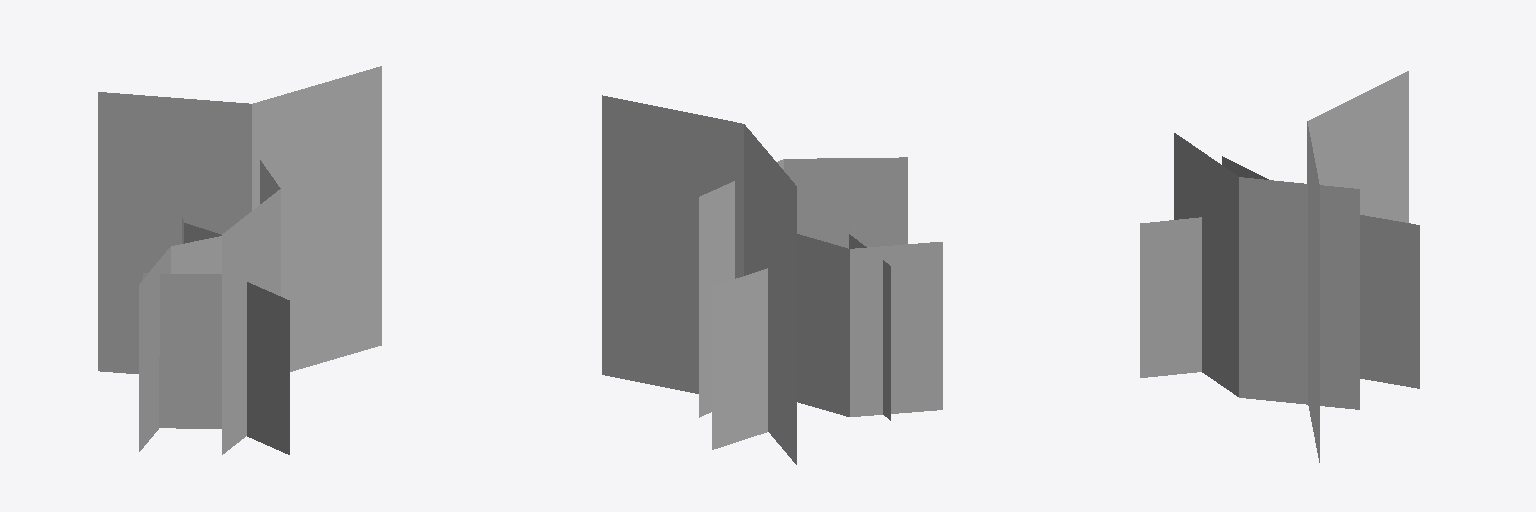
Rendered from Cartoon Grass_1a.obj.
The picture shows the model from 3 angles: view 1: azimuth 30°, elevation 25°; view 2: azimuth 150°, elevation 25°; view 3: azimuth 270°, elevation 25°; orthographic projection.
Visible parts, largest first — view 1: Cartoon Grass_1a; view 2: Cartoon Grass_1a; view 3: Cartoon Grass_1a.
Part boxes in pixels (x1,y1,x2,y2): Cartoon Grass_1a: (98,66,381,454); Cartoon Grass_1a: (602,95,942,464); Cartoon Grass_1a: (1140,71,1419,462).
Bounding box in the file's own units: 10.53 × 9.65 × 8.76.